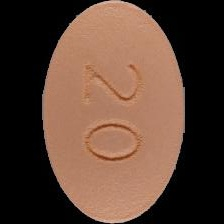0456-1120: (0, 0, 224, 224)
